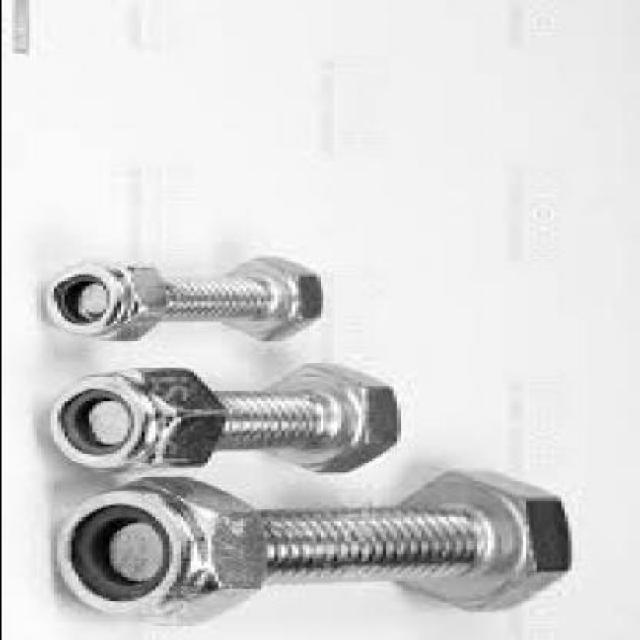metal: (189, 468, 574, 610), (120, 363, 403, 471), (54, 476, 266, 616), (90, 254, 322, 335), (46, 368, 231, 466), (46, 263, 176, 337)
